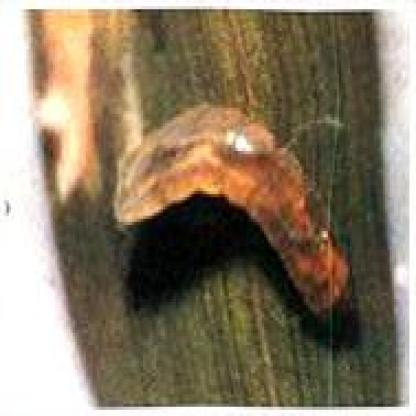whorl-maggot: (118, 104, 355, 326)
